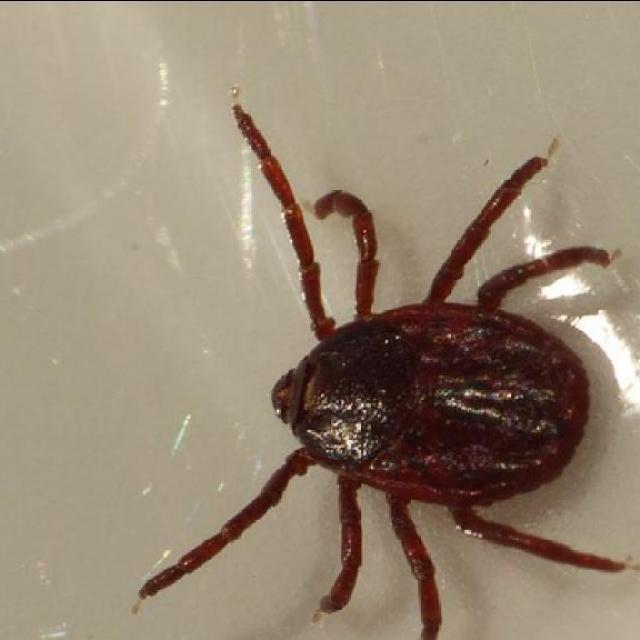Rhipicephalus Sanguineus-F: (139, 90, 632, 640)
